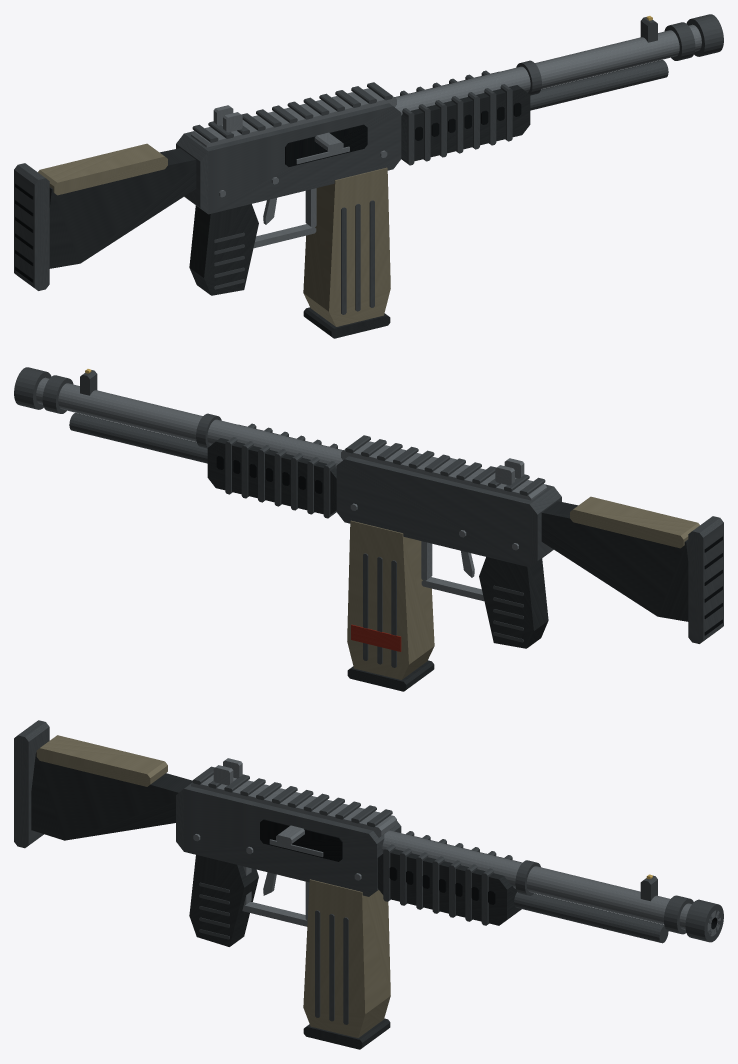
File: shotgun.glb
The picture shows the model from 3 angles, top to bottom: view 1: azimuth 30°, elevation 25°; view 2: azimuth 150°, elevation 25°; view 3: azimuth 330°, elevation 25°; orthographic projection.
Parts seen in each view (by area): view 1: w_shotgun_body, w_shotgun_magazine; view 2: w_shotgun_body, w_shotgun_magazine; view 3: w_shotgun_body, w_shotgun_magazine.
Boxes of the visible parts, bbox=[...] form: w_shotgun_body: bbox=[14, 14, 723, 295]; w_shotgun_magazine: bbox=[303, 167, 390, 338]; w_shotgun_body: bbox=[14, 367, 723, 648]; w_shotgun_magazine: bbox=[347, 520, 434, 691]; w_shotgun_body: bbox=[14, 720, 723, 946]; w_shotgun_magazine: bbox=[303, 879, 390, 1049].
Bounding box in the file's own units: 1.31 × 0.433 × 0.131.
Materials: 1 (1 with a texture image).
